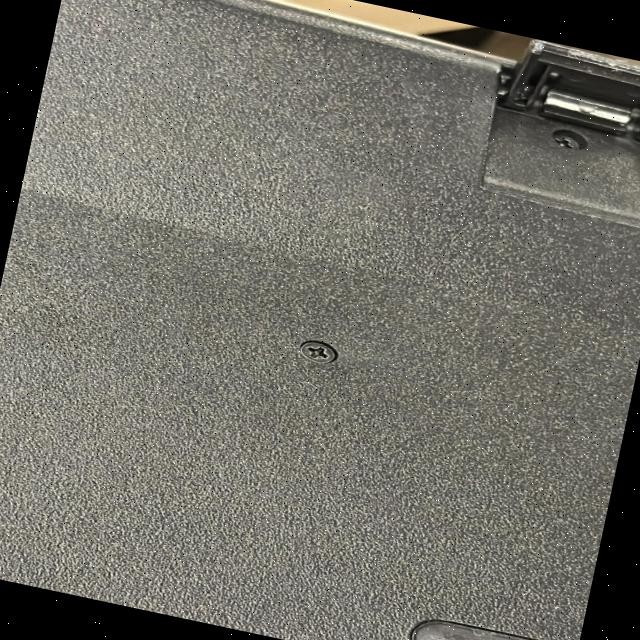Phillips: (288, 334, 344, 373), (534, 124, 589, 156)
